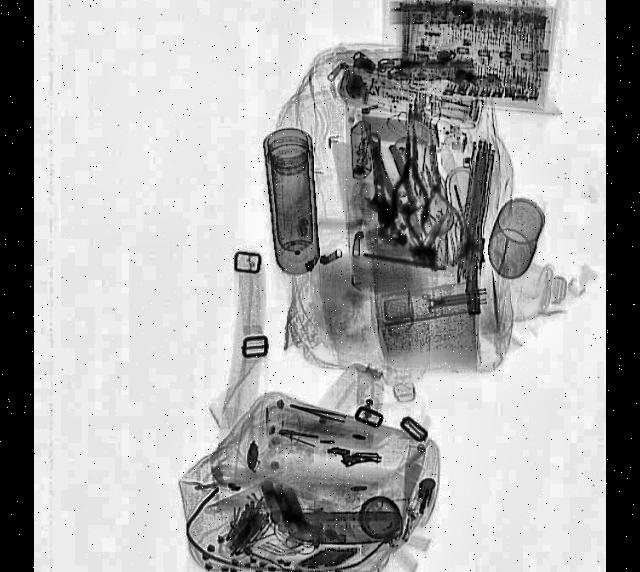Pliers: (388, 124, 429, 224)
Wrench: (360, 128, 392, 224)
